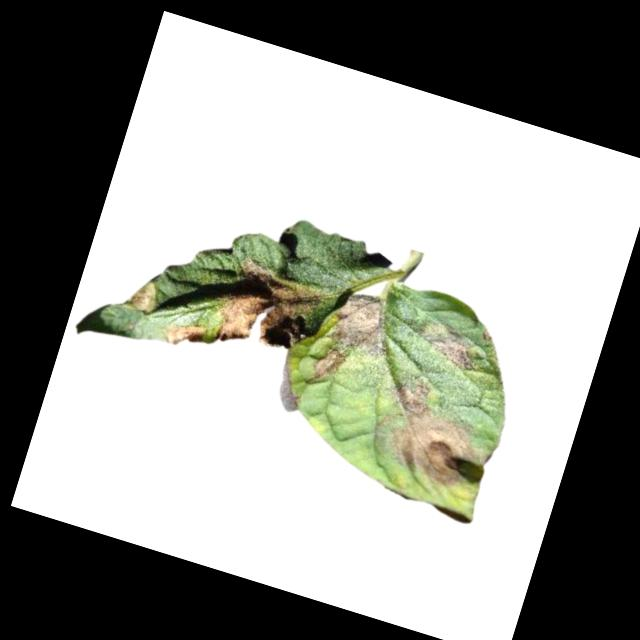Late_blight: (365, 373, 494, 492), (207, 252, 330, 369), (326, 285, 402, 360), (409, 312, 486, 374), (158, 313, 209, 354), (122, 273, 163, 316), (311, 345, 347, 385)
